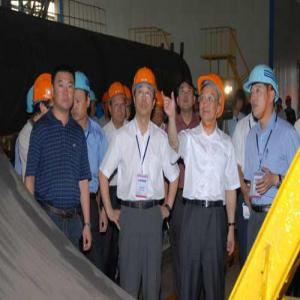blue: (248, 65, 279, 122), (72, 72, 91, 122), (87, 88, 98, 119)
none: (51, 64, 75, 113), (176, 77, 198, 116)
yellow: (199, 73, 225, 124), (132, 65, 157, 118), (34, 73, 54, 117), (109, 84, 128, 126), (152, 91, 166, 127)
